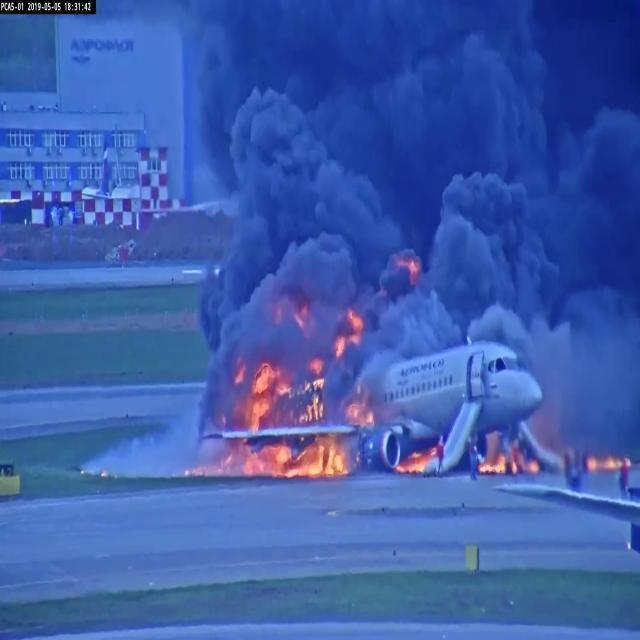Fire: (249, 438, 341, 475), (248, 356, 276, 420)
Smoke: (232, 79, 385, 262), (445, 152, 538, 316)
